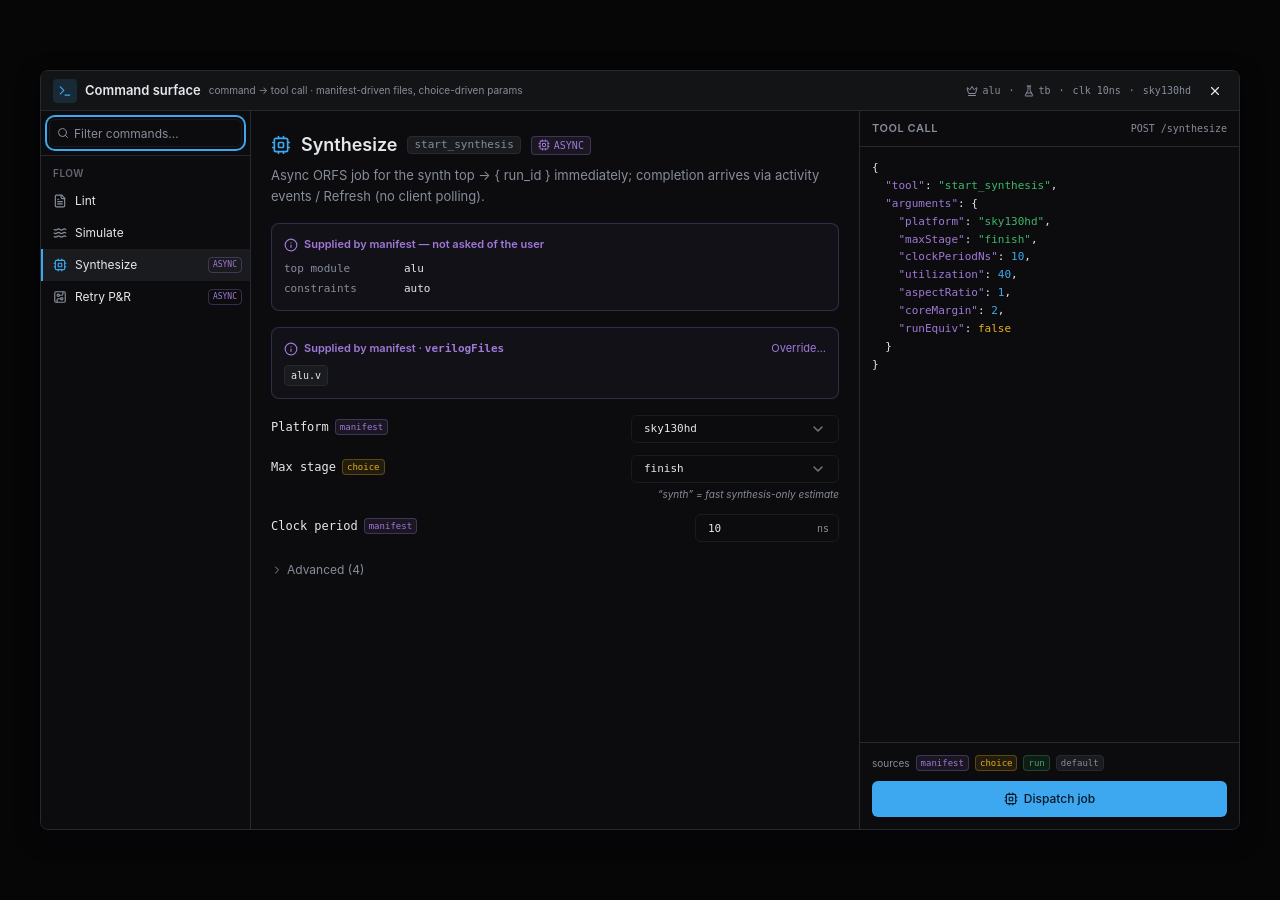
Test: CommandSurface — file-override box (L1/FA1) › typed-but-unentered override text reaches the payload on blur (PR #90 review)
Click the button "Lint" at (146, 201), box [41, 185, 250, 217]
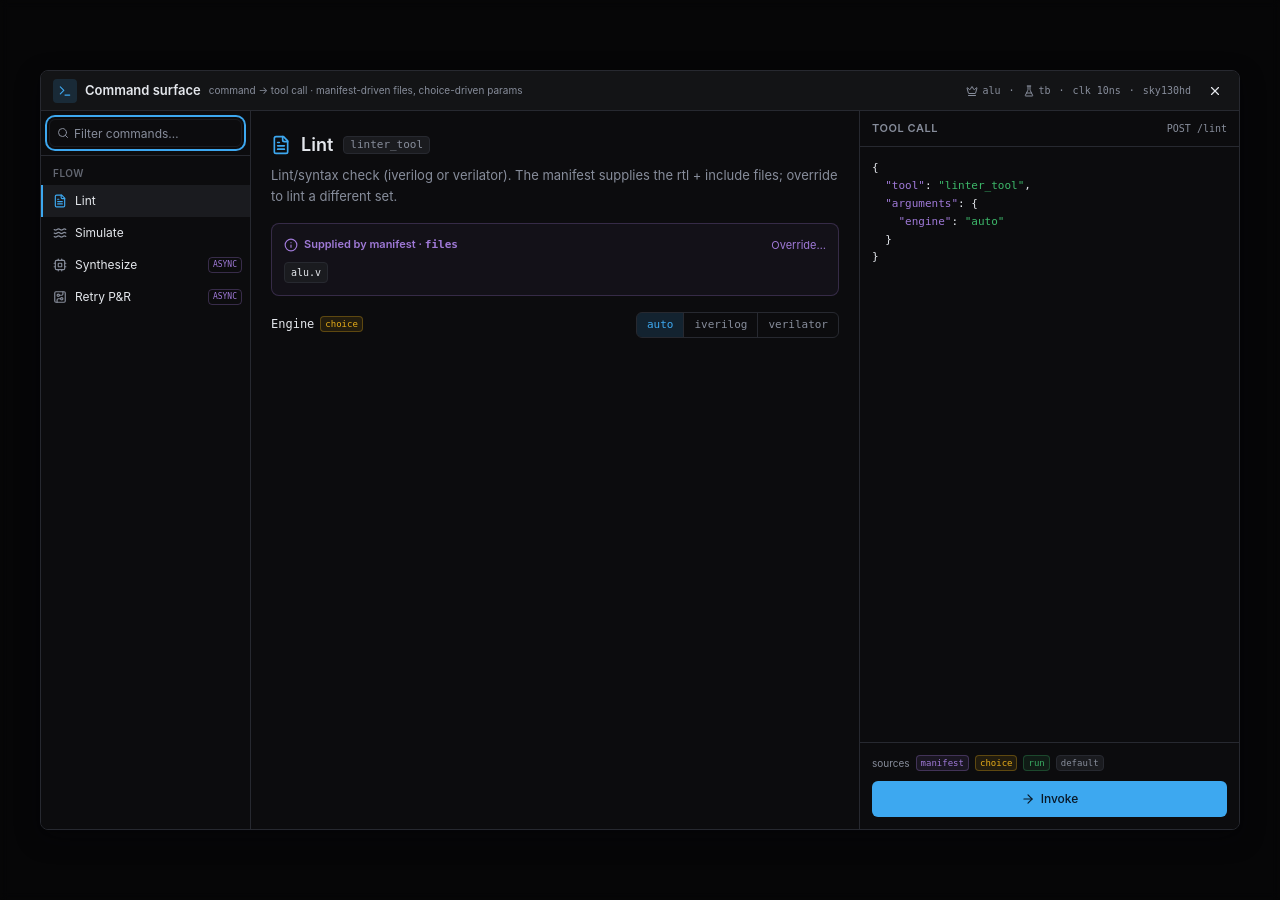
Click the button "Override…" at (799, 245), box [771, 237, 826, 253]
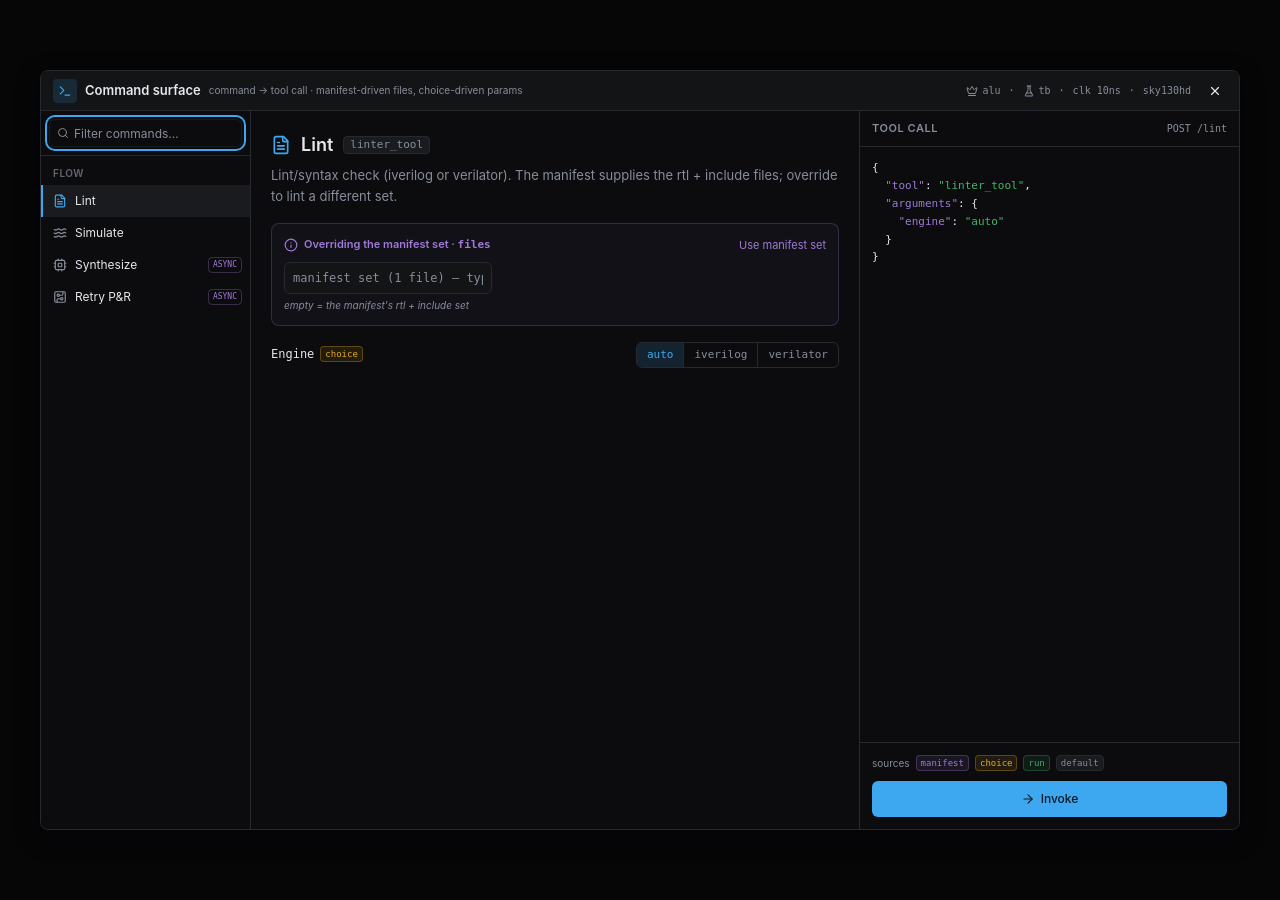
Type "rtl/alu_v2.v" into the dropdown named "Override files" at (388, 278), box [284, 262, 492, 294]
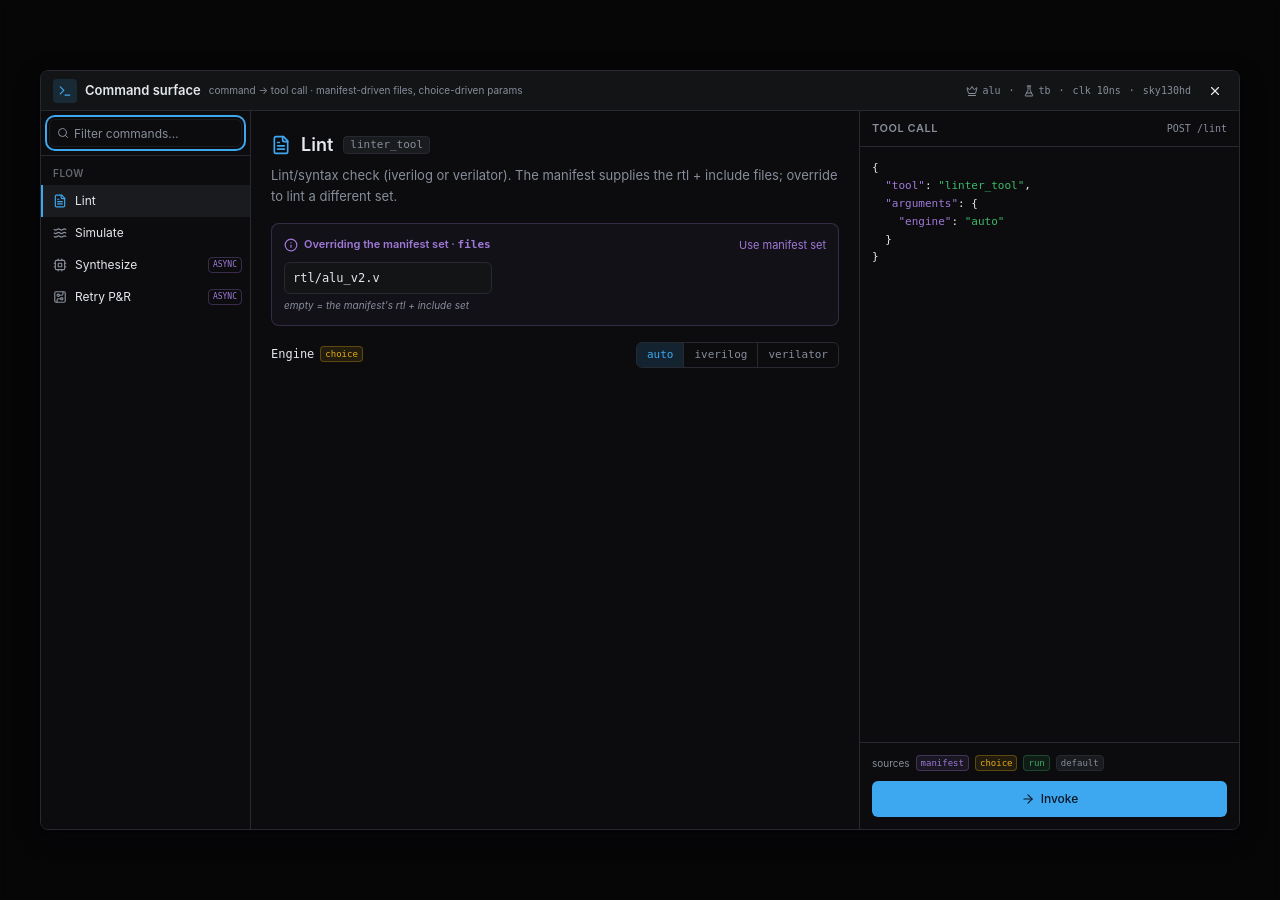
Check: the field labelled "tool call payload" does not show "rtl/alu_v2.v"
…and on blur it must become a real value, not vanish.
Leave the dropdown named "Override files", box [284, 262, 492, 294]
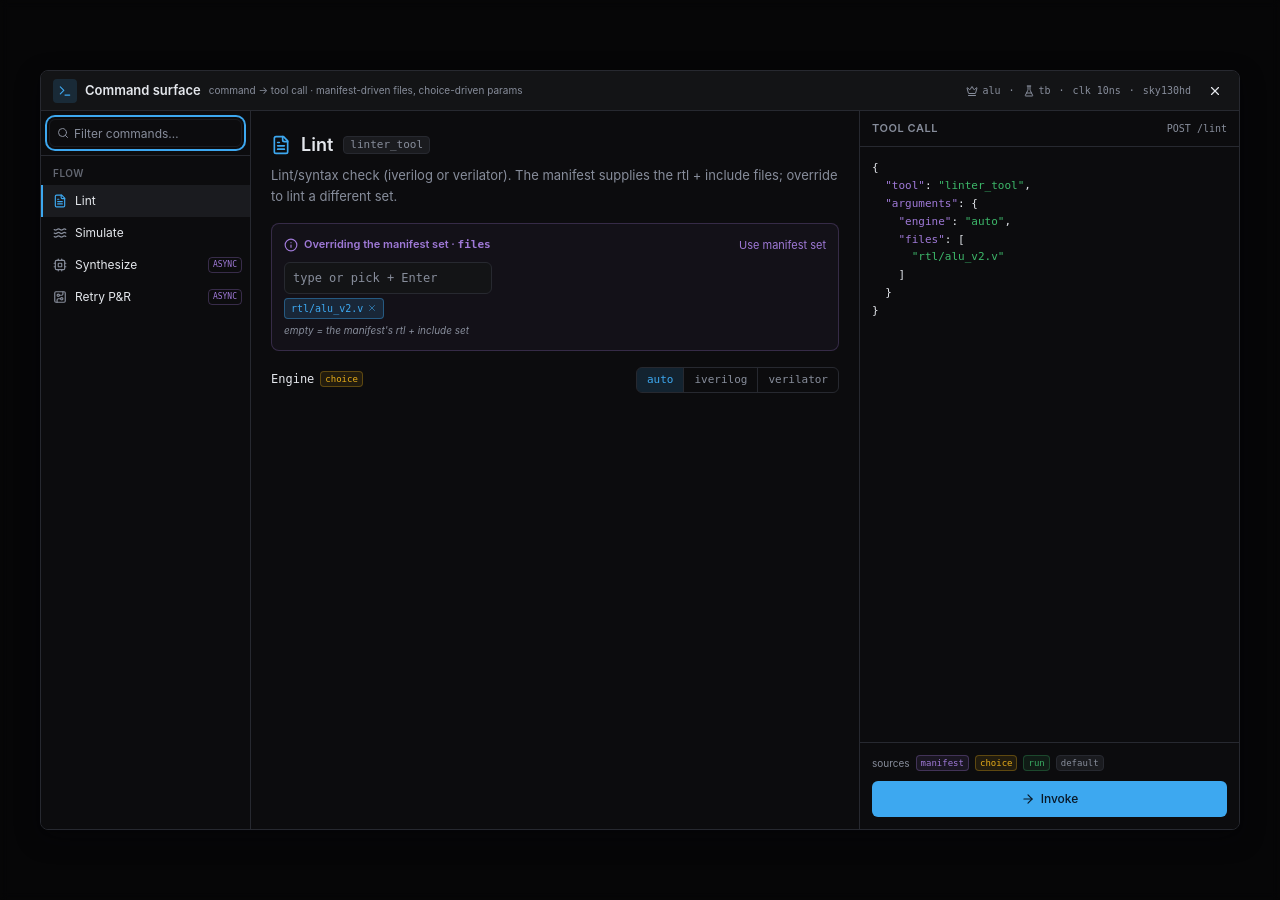
Check: the element named "tool call payload" shows "rtl/alu_v2.v", box [912, 250, 1004, 263]
